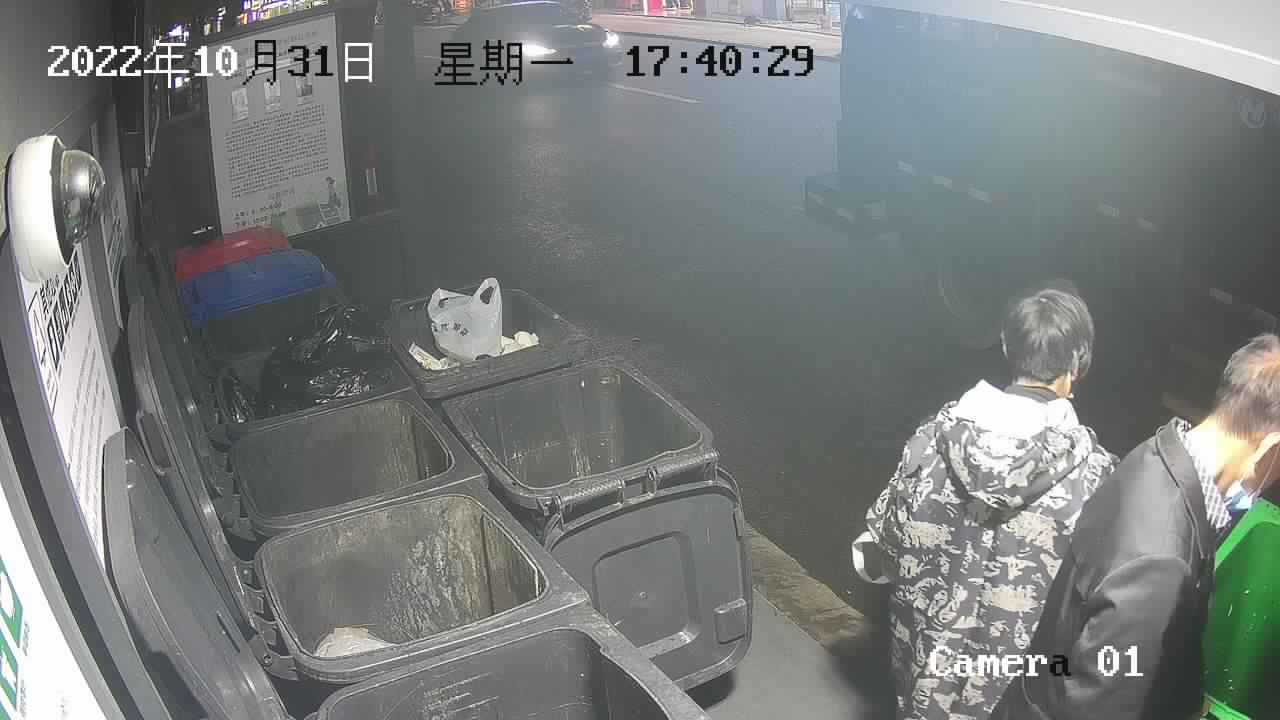person: (863, 280, 1124, 720), (988, 332, 1277, 720)
